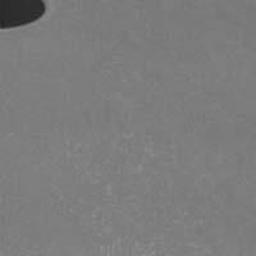Punching: (0, 0, 45, 29)
